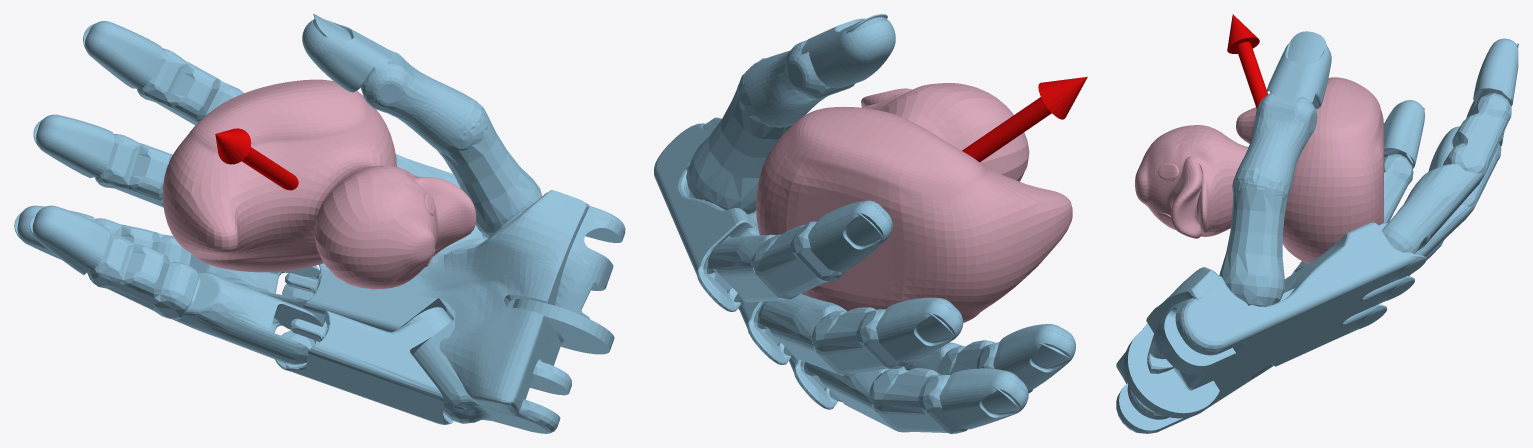
The picture shows the model from 3 angles, left to right: view 1: azimuth 30°, elevation 25°; view 2: azimuth 150°, elevation 25°; view 3: azimuth 270°, elevation 25°; orthographic projection. The views are drawn at different scales.
Visible parts, largest first — view 1: world, rubber_duck.stl; view 2: world, rubber_duck.stl; view 3: world, rubber_duck.stl.
Part boxes in pixels (box(x1,y1,x2,y2)): world: box(14, 14, 625, 433); rubber_duck.stl: box(162, 79, 476, 289); world: box(654, 14, 1087, 433); rubber_duck.stl: box(756, 83, 1072, 322); world: box(1116, 14, 1518, 433); rubber_duck.stl: box(1135, 77, 1383, 263).
Size of the model in its own units: 0.1898 by 0.146 by 0.1552.
